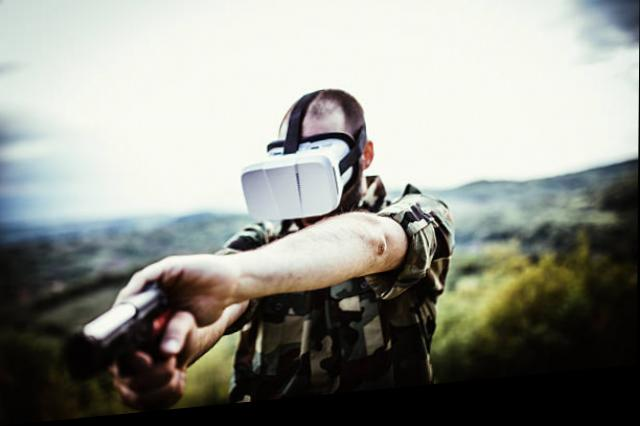other: (225, 86, 428, 390)
